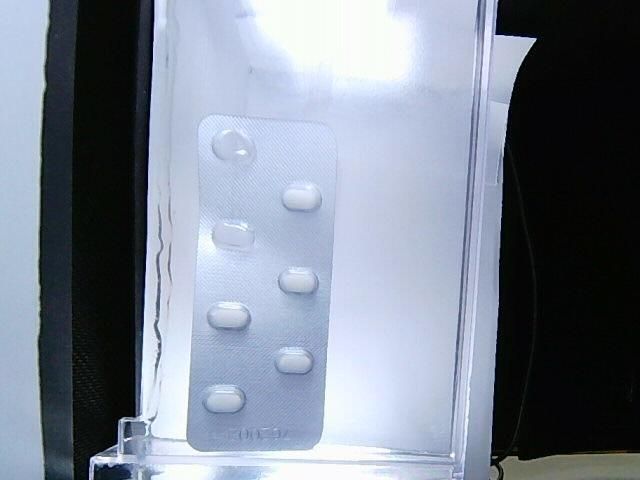Light Front: (185, 115, 341, 456)
No Pill Front: (211, 129, 256, 164), (213, 219, 255, 251)
Pill Front: (208, 301, 251, 329), (203, 385, 245, 412), (283, 184, 321, 211), (275, 348, 313, 374), (280, 274, 317, 294)
